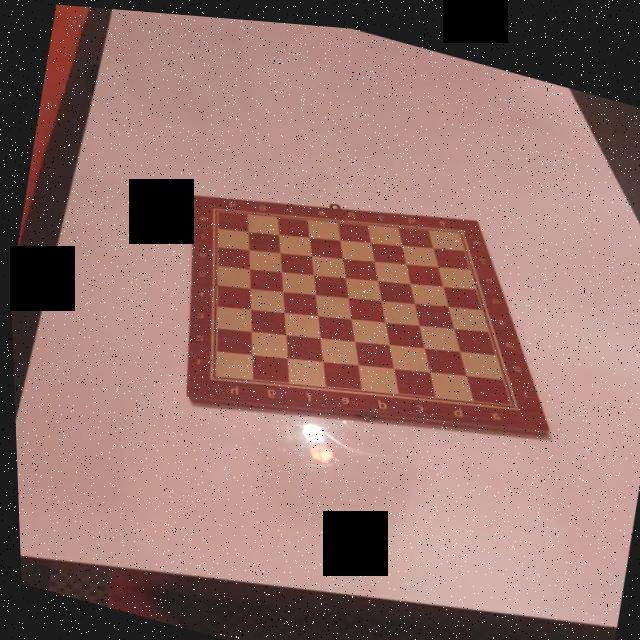chess-table-corners: (204, 198, 223, 215), (201, 366, 218, 383), (503, 391, 520, 406), (452, 217, 469, 230)
